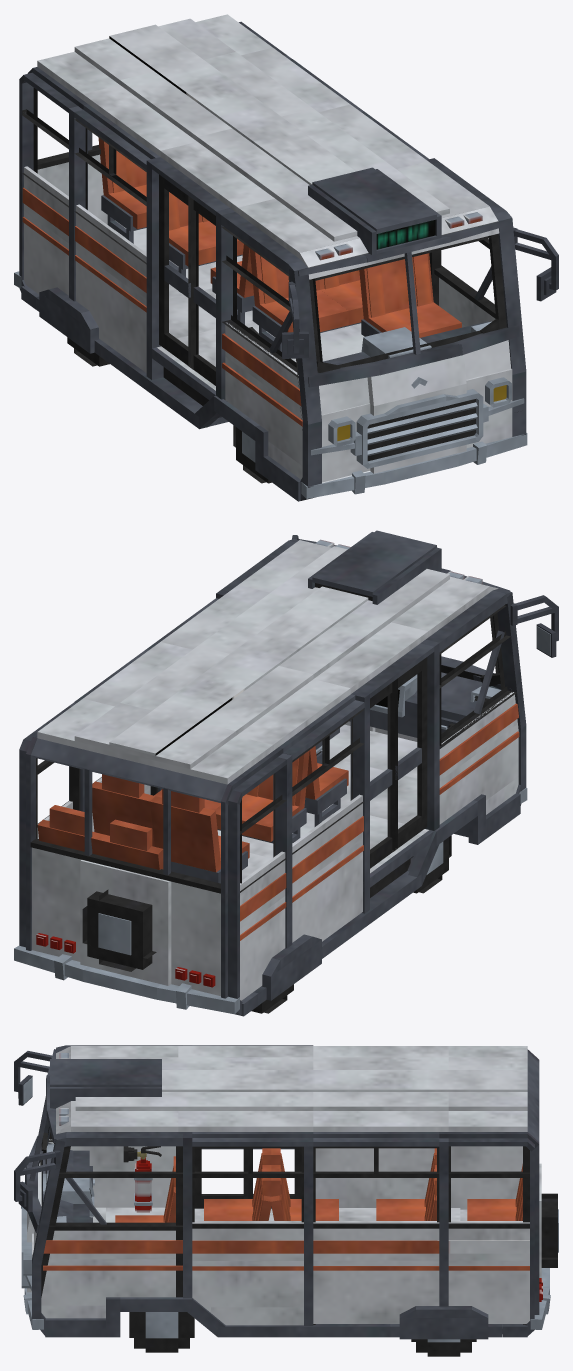
Rendered from bus.dae.
3 renders of one model, top to bottom at view 1: azimuth 30°, elevation 25°; view 2: azimuth 150°, elevation 25°; view 3: azimuth 270°, elevation 25°, orthographic. The views are drawn at different scales.
Parts seen in each view (by area): view 1: Mini_bus_; view 2: Mini_bus_; view 3: Mini_bus_.
Part boxes in pixels (x1,y1,x2,y2): Mini_bus_: (14, 14, 558, 501); Mini_bus_: (14, 530, 558, 1016); Mini_bus_: (14, 1045, 558, 1356).
Size of the model in its own units: 3.69 by 7.31 by 3.6.
Materials: 1 (1 with a texture image).
